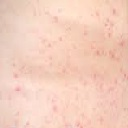Measles: (35, 17, 122, 118)
